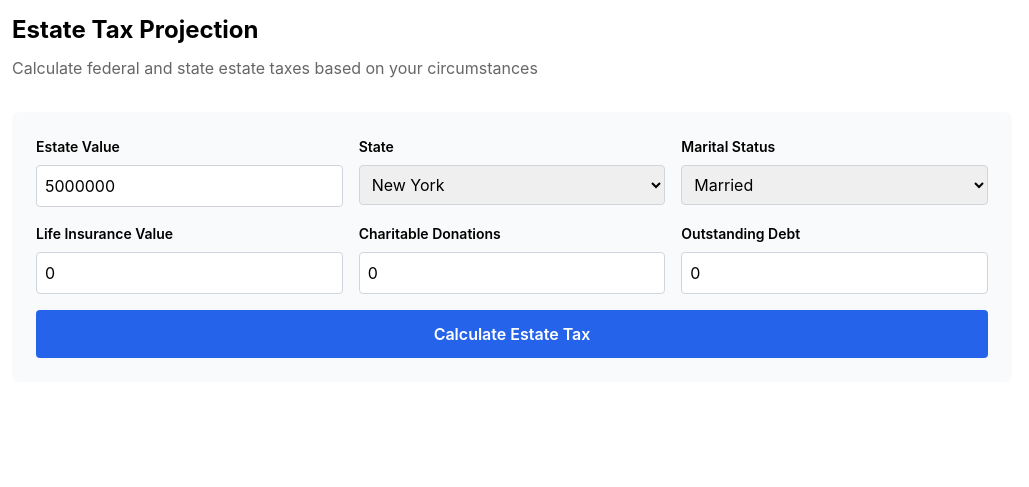
Test case: Estate Tax Projection › handles API error gracefully
This screenshot has width=1029, height=487.
Click the button "Calculate Estate Tax" at [512, 334], box [36,310,988,358]
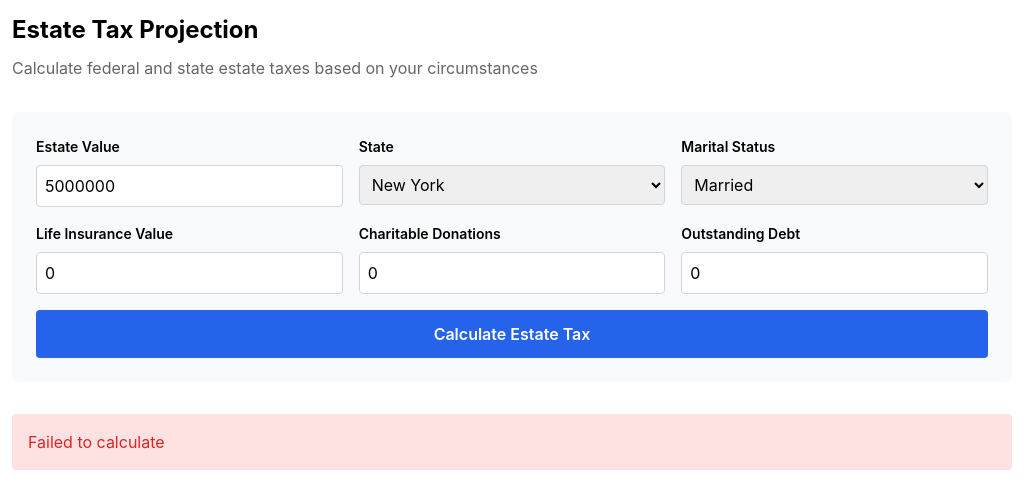
Expected: the text "Failed to calculate" is shown, [12,414,1012,470]
